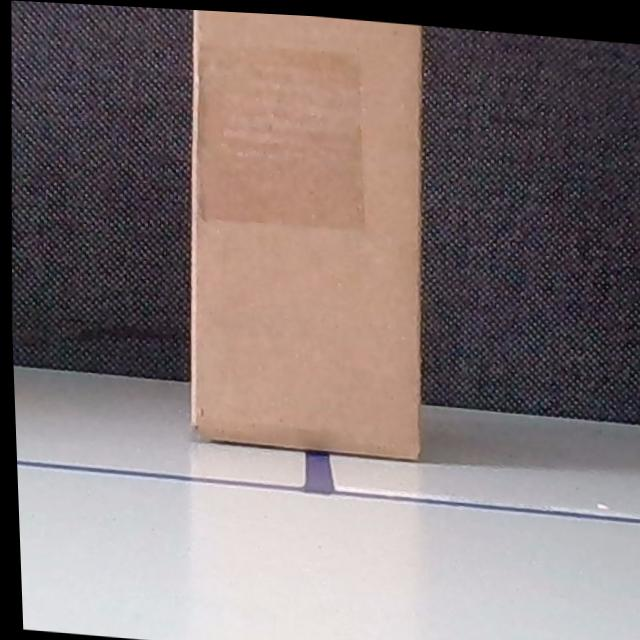box: (176, 7, 432, 456)
